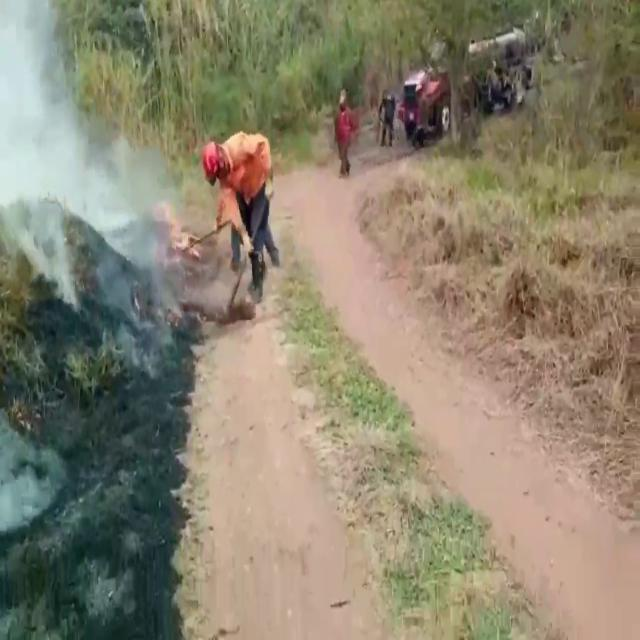Smoke: (0, 0, 176, 313)
